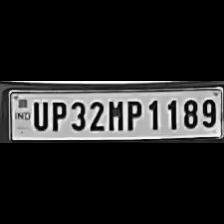1: (144, 97, 162, 131), (162, 96, 178, 130)
2: (86, 97, 104, 131)
3: (67, 98, 85, 132)
8: (180, 96, 198, 130)
9: (199, 96, 217, 128)
M: (106, 97, 122, 131)
P: (122, 97, 142, 131), (48, 98, 66, 132)
U: (29, 98, 47, 132)
